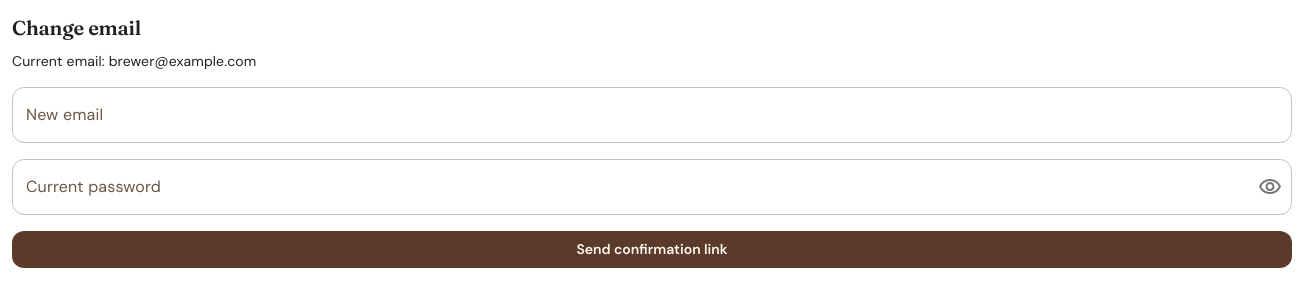
Test: ChangeEmailForm › marks a wrong current password on its field
The width and height of the screenshot is (1304, 307).
Step 1. Type "new@example.com" into the field labelled "New email" → (652, 115), box left=12, top=87, right=1292, bottom=143
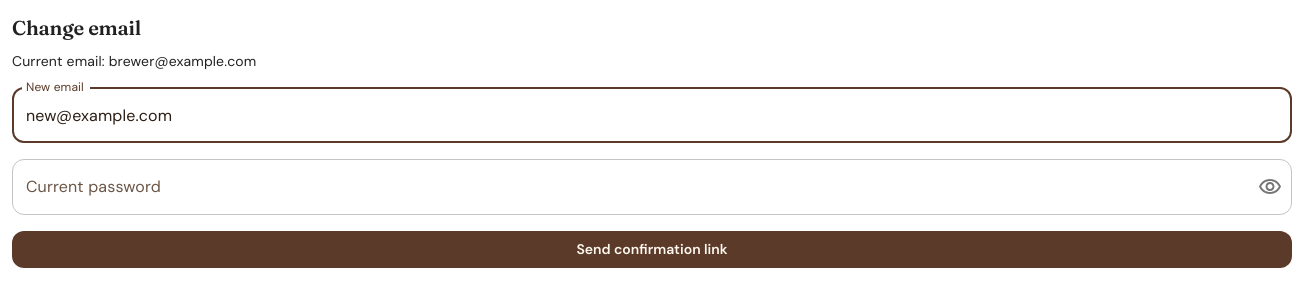
Step 2. Type "wrong-password-123" into the password field labelled "Current password" → (627, 187), box left=12, top=159, right=1242, bottom=215
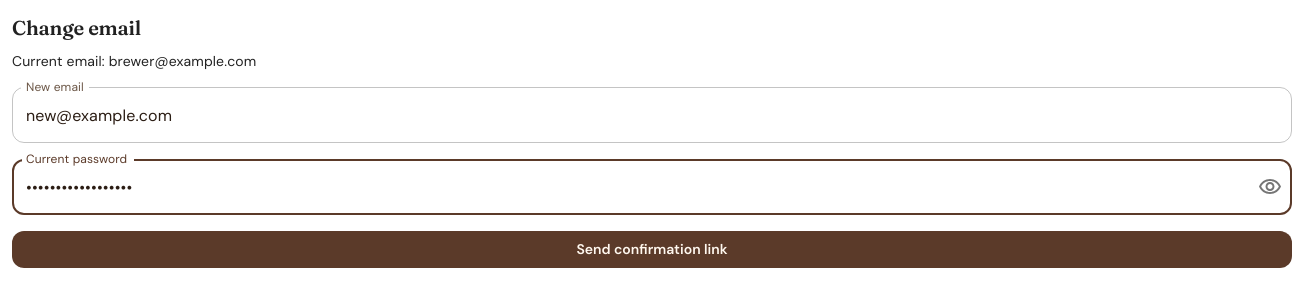
Step 3. Click the button "Send confirmation link" → (652, 249), box left=12, top=231, right=1292, bottom=268
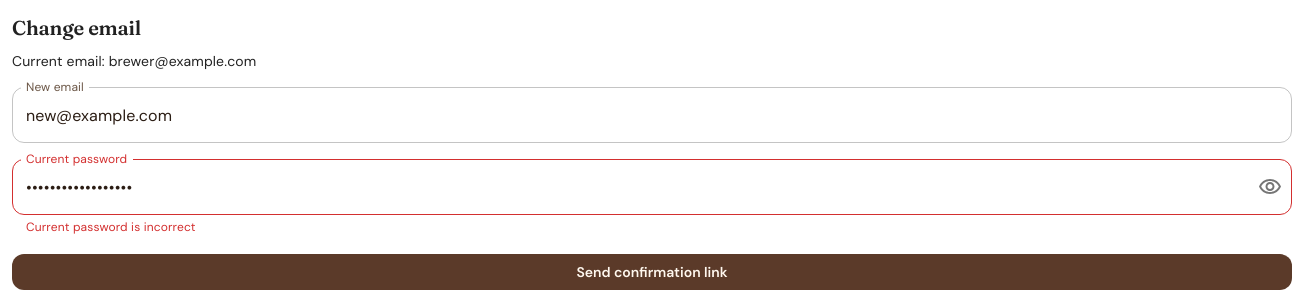
Now the text "Current password is incorrect" is shown, box left=26, top=219, right=196, bottom=235
